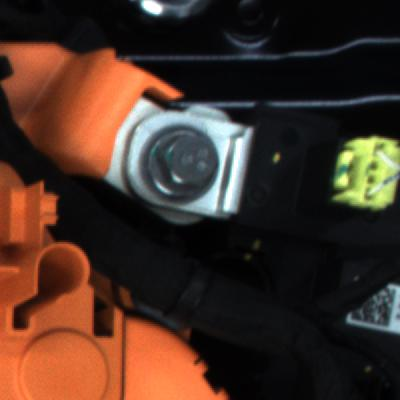nut_b: (139, 121, 229, 214)
